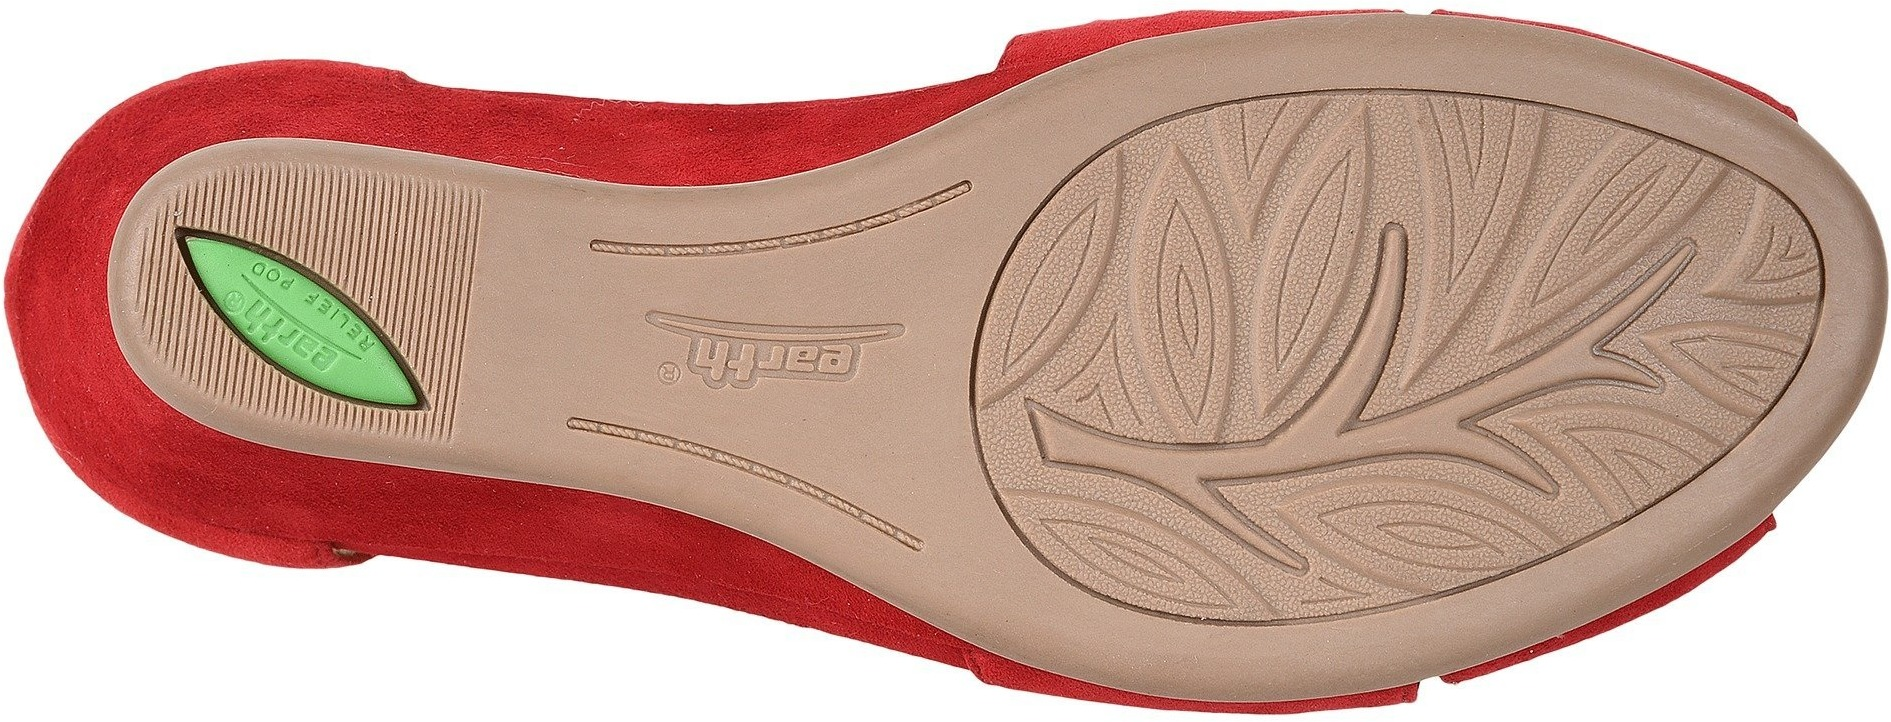chevron: (1377, 61, 1558, 404)
exclude: (456, 153, 880, 569)
line: (256, 168, 335, 251)
other: (974, 94, 1814, 624), (347, 180, 478, 303)
quad: (1099, 107, 1418, 409)
ribbon: (1540, 239, 1706, 403), (1159, 435, 1321, 585), (1410, 378, 1561, 520)
text: (673, 317, 870, 395), (238, 288, 349, 393)
